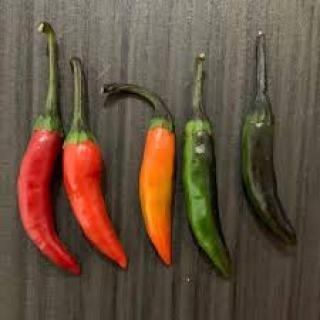Cabai Hijau: (241, 92, 296, 256), (183, 119, 234, 282)
Cabai Merah: (63, 118, 129, 272), (18, 131, 80, 276), (138, 118, 177, 269)
